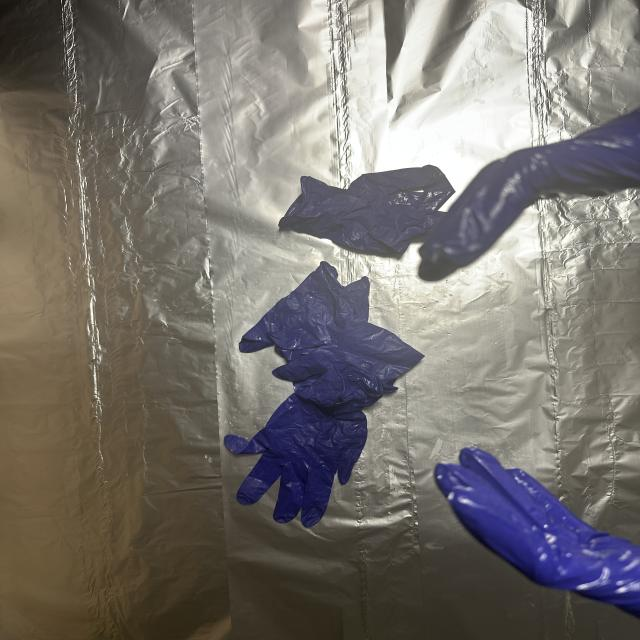gloves_contaminated: (418, 110, 640, 281), (434, 447, 640, 617)
